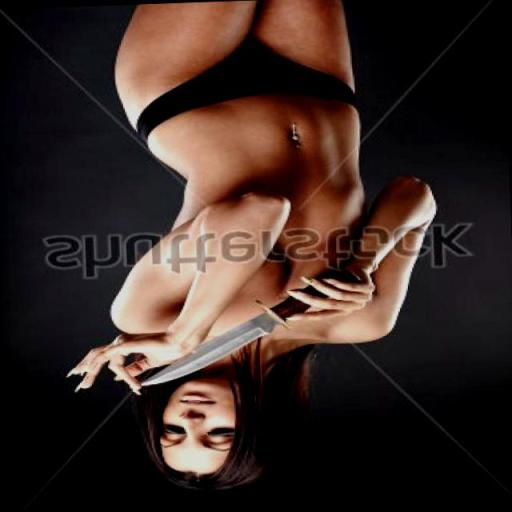knife: (117, 268, 365, 398)
